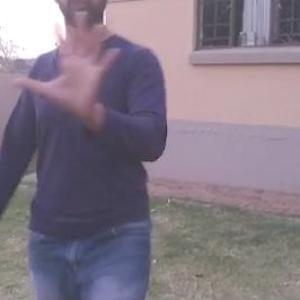follow_hand: (10, 7, 128, 116)
